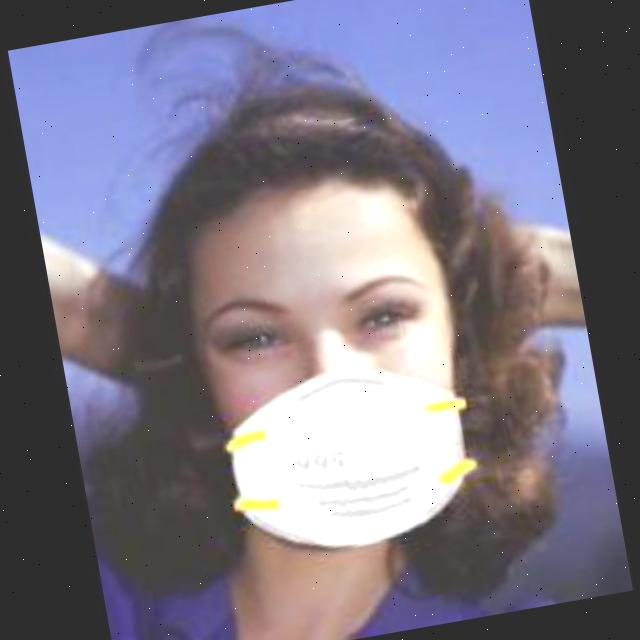suspicion: (163, 133, 499, 562)
